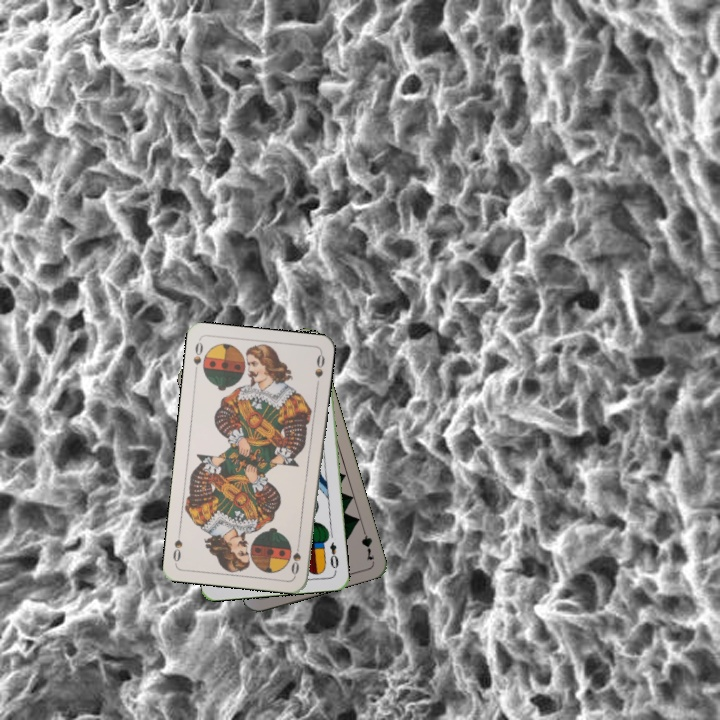EO: (326, 538, 341, 574)
G7: (357, 523, 377, 563)
SO: (287, 537, 303, 577), (189, 338, 205, 377)
